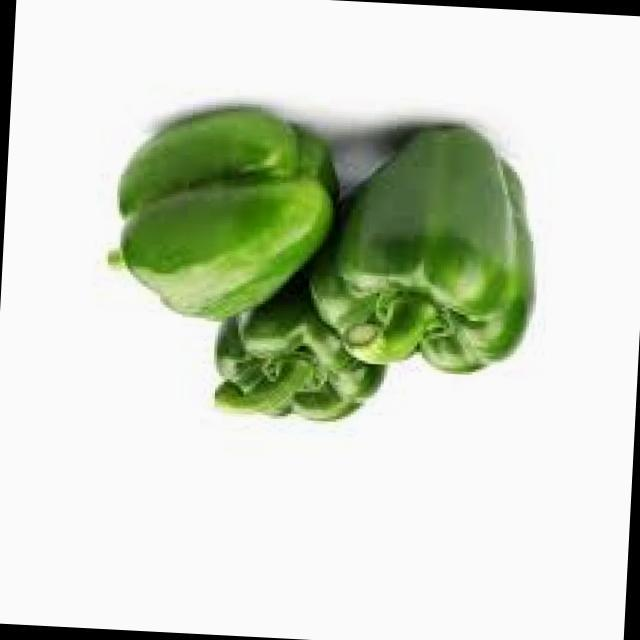Capsicum: (305, 126, 536, 372), (106, 104, 334, 320), (213, 280, 385, 423)
